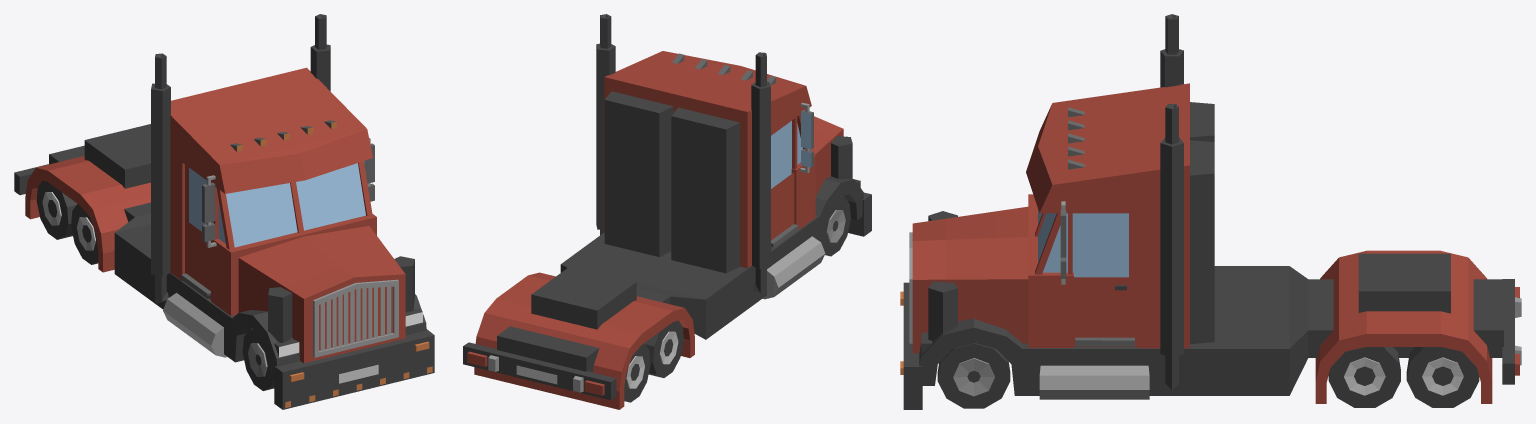
File: transport_truck_001.fbx
3 views of the same model, side by side, from view 1: azimuth 30°, elevation 25°; view 2: azimuth 150°, elevation 25°; view 3: azimuth 270°, elevation 25° (orthographic). The views are drawn at different scales.
Visible parts, largest first — view 1: transport_truck_001; view 2: transport_truck_001; view 3: transport_truck_001.
Part boxes in pixels (x1,y1,x2,y2): transport_truck_001: (14, 14, 434, 409); transport_truck_001: (463, 14, 871, 409); transport_truck_001: (900, 14, 1521, 409).
Bounding box in the file's own units: 213 × 307 × 560.
